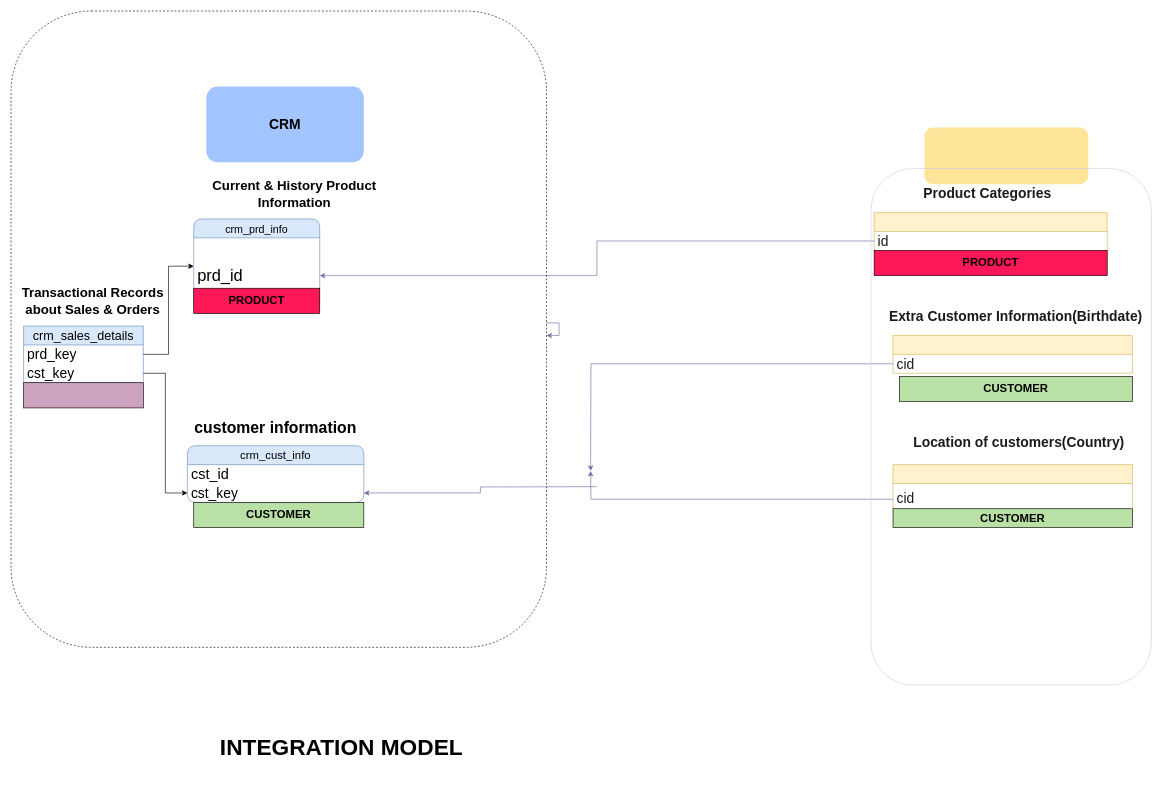
The diagram is 1162 pixels wide and 799 high, and some of its shapes have lost their labels. Here are the shapes that lost their labels. From the top down, the box of each, then its label:
(924, 127, 1088, 184): ERP
(873, 212, 1107, 250): erp_px_cat_g1v2
(892, 335, 1132, 373): erp_cust_az12
(23, 382, 143, 408): SALES
(892, 464, 1132, 515): erp_loc_a101
